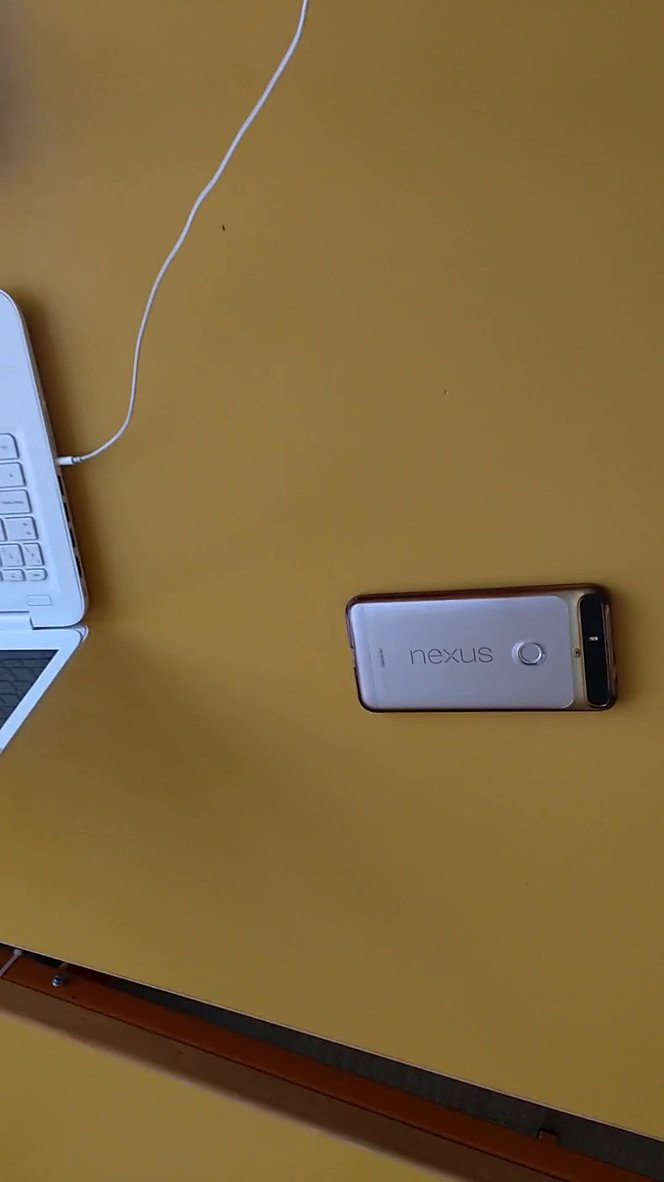phone: (336, 556, 655, 762)
